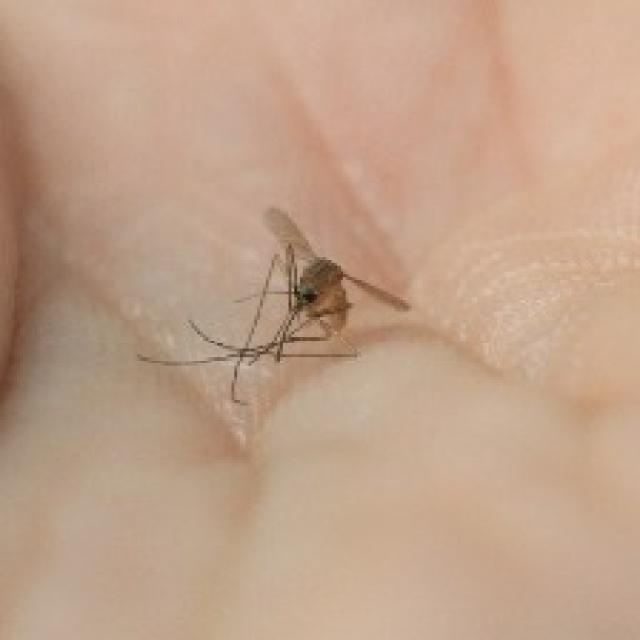culex: (134, 203, 409, 406)
